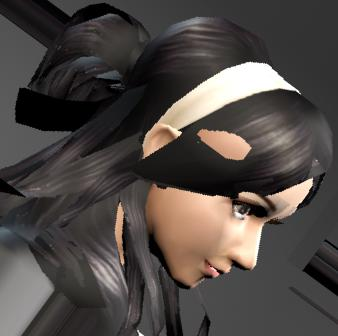clip: (196, 124, 253, 163)
